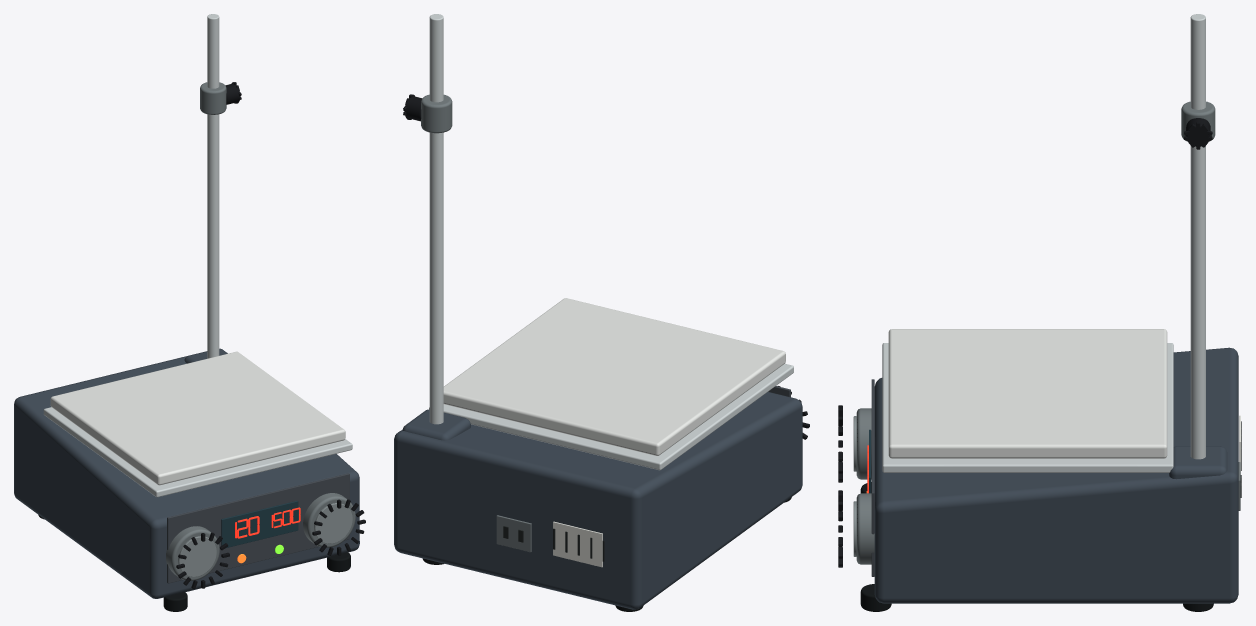
Rendered from hotplate-stirrer.glb.
3 renders of one model, left to right at view 1: azimuth 30°, elevation 25°; view 2: azimuth 150°, elevation 25°; view 3: azimuth 270°, elevation 25°, orthographic. The views are drawn at different scales.
Visible parts, largest first — view 1: Runtime batch - Hotplate deep blue-grey powder coat, Runtime batch - White ceramic coated aluminium plate, Runtime batch - Satin formed stainless instrument enclosure, Runtime batch - Recessed graphite control fascia, Runtime batch - Molded control-key polymer, Runtime batch - Cool laboratory grey polymer, Runtime batch - Inactive blue-black display glass, Runtime batch - Matte black coated handle, Runtime batch - Black closed-cell gasket, Runtime batch - Hotplate red LED phosphor; view 2: Runtime batch - Hotplate deep blue-grey powder coat, Runtime batch - White ceramic coated aluminium plate, Runtime batch - Satin formed stainless instrument enclosure, Runtime batch - Molded control-key polymer, Runtime batch - Matte equipment label; view 3: Runtime batch - Hotplate deep blue-grey powder coat, Runtime batch - White ceramic coated aluminium plate, Runtime batch - Satin formed stainless instrument enclosure, Runtime batch - Molded control-key polymer, Runtime batch - Matte black coated handle, Runtime batch - Black closed-cell gasket, Runtime batch - Recessed graphite control fascia.
Boxes of the visible parts, bbox=[...] form: Runtime batch - Hotplate deep blue-grey powder coat: bbox=[14, 348, 359, 598]; Runtime batch - White ceramic coated aluminium plate: bbox=[50, 351, 345, 485]; Runtime batch - Satin formed stainless instrument enclosure: bbox=[43, 14, 352, 497]; Runtime batch - Recessed graphite control fascia: bbox=[167, 473, 349, 583]; Runtime batch - Molded control-key polymer: bbox=[166, 82, 355, 580]; Runtime batch - Cool laboratory grey polymer: bbox=[178, 503, 352, 576]; Runtime batch - Inactive blue-black display glass: bbox=[221, 500, 298, 547]; Runtime batch - Matte black coated handle: bbox=[176, 82, 365, 588]; Runtime batch - Black closed-cell gasket: bbox=[38, 515, 350, 611]; Runtime batch - Hotplate red LED phosphor: bbox=[235, 507, 300, 538]; Runtime batch - Hotplate deep blue-grey powder coat: bbox=[394, 392, 802, 609]; Runtime batch - White ceramic coated aluminium plate: bbox=[443, 298, 785, 455]; Runtime batch - Satin formed stainless instrument enclosure: bbox=[429, 14, 793, 470]; Runtime batch - Molded control-key polymer: bbox=[421, 94, 531, 552]; Runtime batch - Matte equipment label: bbox=[553, 521, 602, 567]; Runtime batch - Hotplate deep blue-grey powder coat: bbox=[874, 347, 1238, 603]; Runtime batch - White ceramic coated aluminium plate: bbox=[888, 329, 1167, 458]; Runtime batch - Satin formed stainless instrument enclosure: bbox=[882, 14, 1205, 472]; Runtime batch - Molded control-key polymer: bbox=[856, 101, 1240, 564]; Runtime batch - Matte black coated handle: bbox=[838, 118, 1212, 567]; Runtime batch - Black closed-cell gasket: bbox=[860, 482, 1213, 611]; Runtime batch - Recessed graphite control fascia: bbox=[871, 379, 874, 576].
Bounding box in the file's own units: 0.2 × 0.42 × 0.2605.
